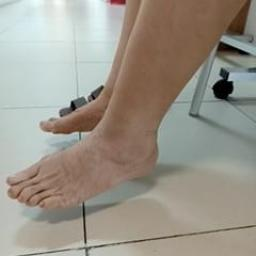Lateral View -Left Foot-: (1, 107, 184, 227)
